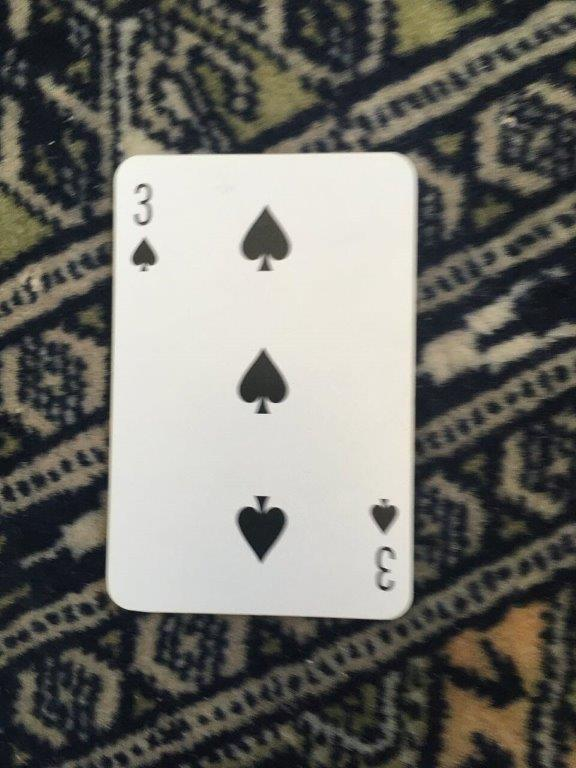3S: (101, 149, 422, 623)
